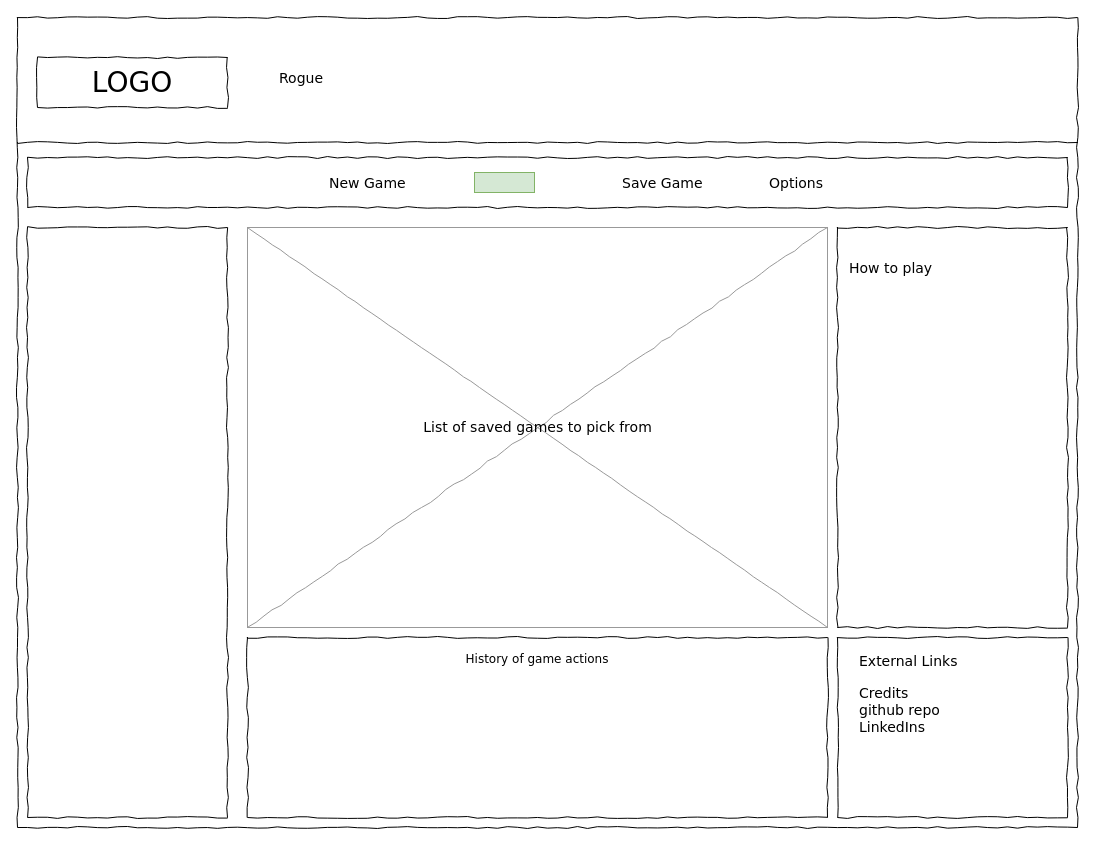
The diagram is 1095 pixels wide and 845 high, and some of its shapes have lost their labels. The centre of each missing label's shape, as x and y in pixels:
"Inventory (if we get that far)" belongs at [127,522].
"Load Game" belongs at [504,182].
